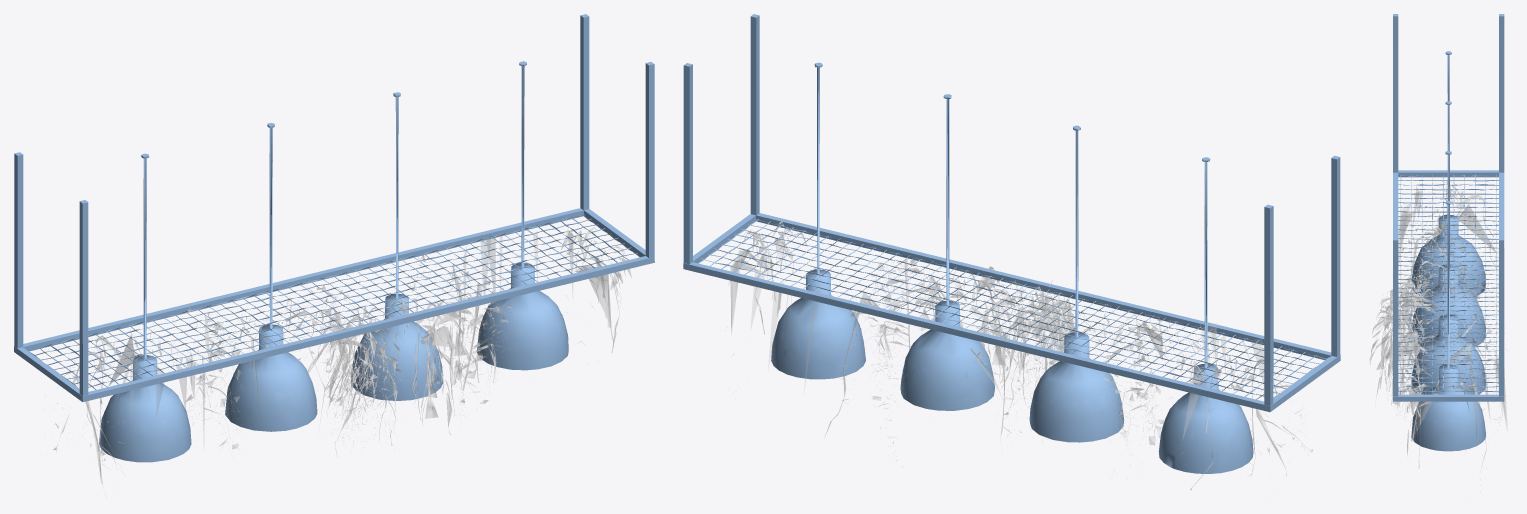
The model's file is plant-pendant.mobile.glb.
3 renders of one model, left to right at view 1: azimuth 30°, elevation 25°; view 2: azimuth 150°, elevation 25°; view 3: azimuth 270°, elevation 25°, orthographic. The views are drawn at different scales.
Visible parts, largest first — view 1: plant-pendant_wire_088144225, plant-pendant_wire_204204204; view 2: plant-pendant_wire_088144225, plant-pendant_wire_204204204; view 3: plant-pendant_wire_088144225, plant-pendant_wire_204204204.
Boxes of the visible parts, bbox=[...] form: plant-pendant_wire_088144225: bbox=[14, 14, 654, 462]; plant-pendant_wire_204204204: bbox=[48, 227, 631, 485]; plant-pendant_wire_088144225: bbox=[683, 14, 1340, 473]; plant-pendant_wire_204204204: bbox=[728, 221, 1312, 489]; plant-pendant_wire_088144225: bbox=[1393, 14, 1504, 451]; plant-pendant_wire_204204204: bbox=[1369, 180, 1507, 468].
Bounding box in the file's own units: 2.01 × 1.17 × 0.535.
